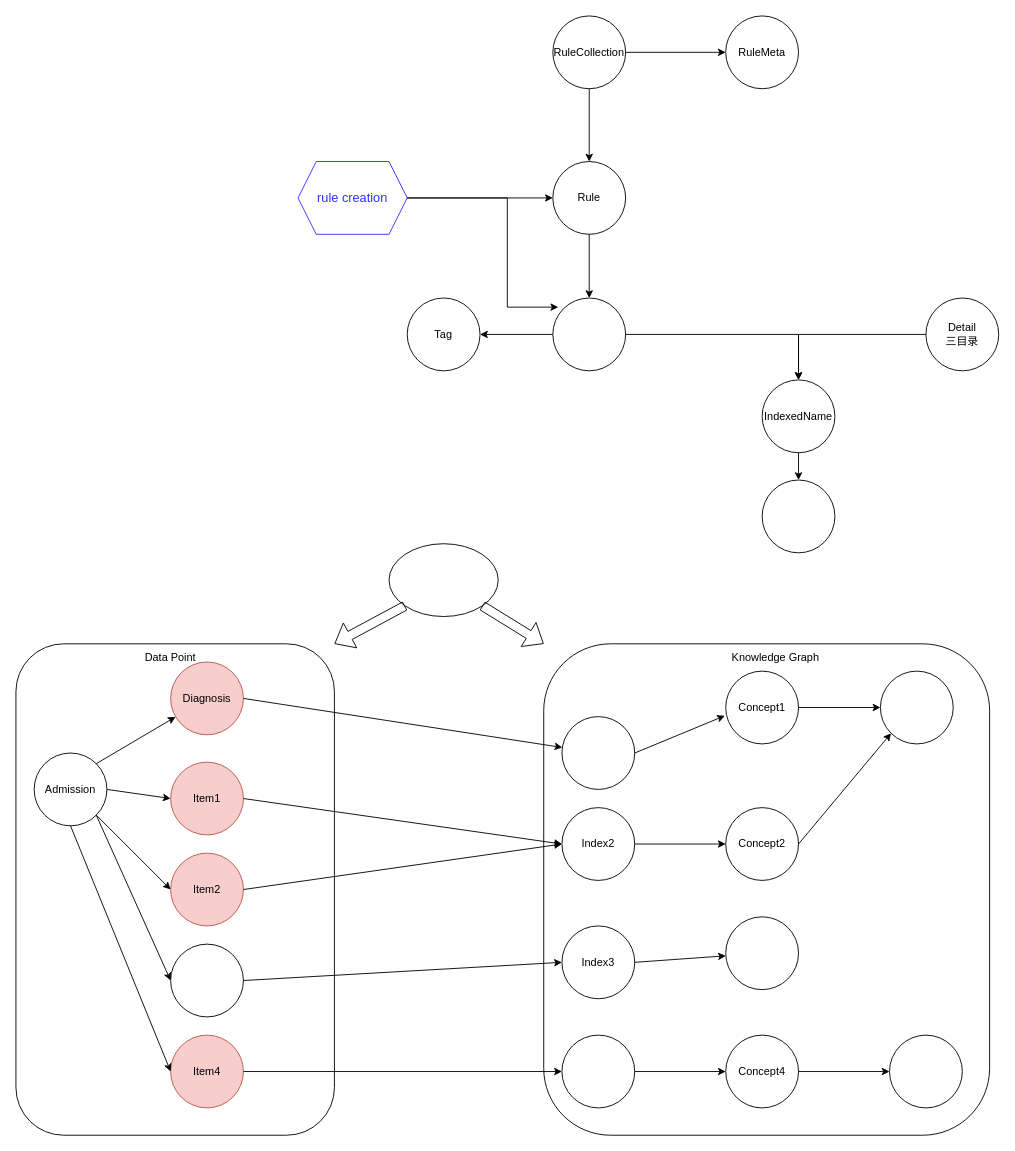
Image size: 1015x1151. Some labels were removed from this diagram. The shapes that lost their labels are listed below. From the top down, each one's centre as x and y in pixels, then its label:
At point 589,334: "Concept".
At point 798,516: "Synonyms".
At point 443,580: "Entity Linking Service".
At point 916,707: "Rule1".
At point 598,752: "Index1".
At point 762,953: "Concept3".
At point 206,980: "Item3".
At point 598,1071: "Index4".
At point 925,1071: "Rule2".
